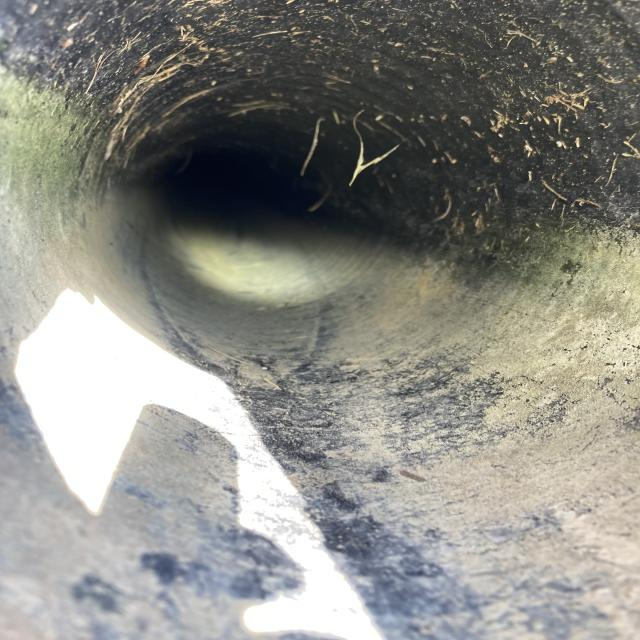root: (297, 110, 394, 188), (235, 91, 304, 124)
